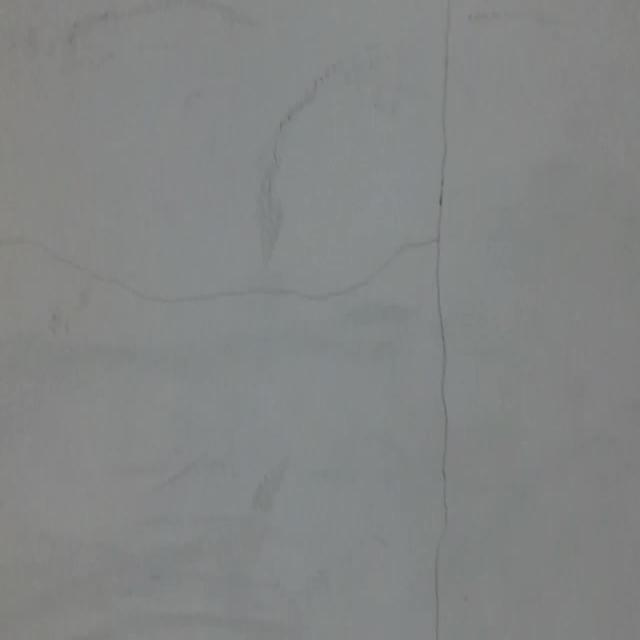Crack: (0, 222, 419, 324), (419, 0, 480, 637)
